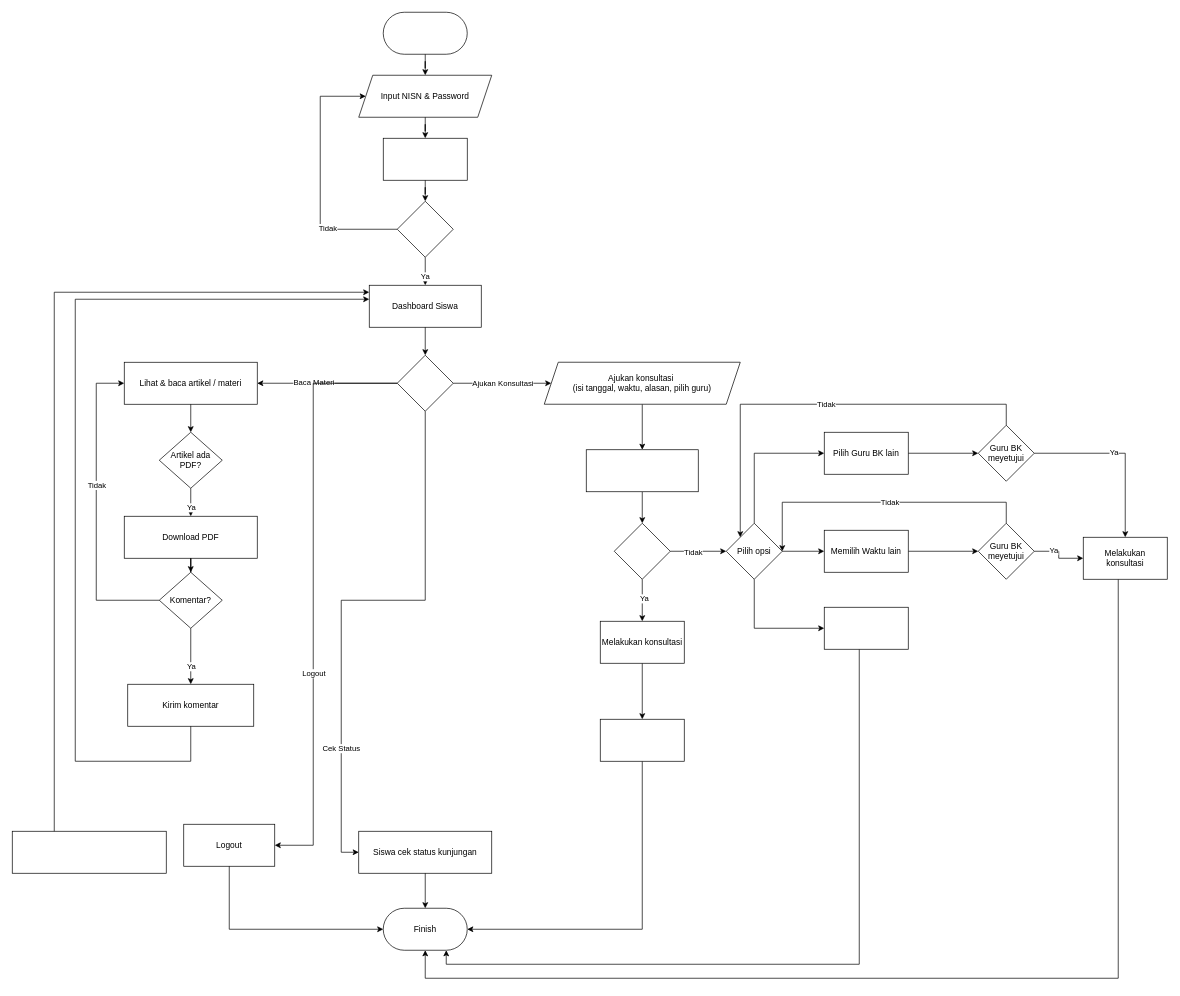
Image size: 1180x996. Some labels were removed from this diagram. The shapes that lost their labels are listed below. From the top down, each one's centre as x and y in pixels, then its label:
the point at 425,33: Start
the point at 425,159: Login
the point at 425,229: Login berhasil?
the point at 425,383: Pilih Menu
the point at 642,470: Submit - Status PENDING
the point at 642,551: disetujui
the point at 866,628: Batalkan
the point at 642,740: konsultasi selesai
the point at 89,852: Gunakan chatbot BK (opsional)
